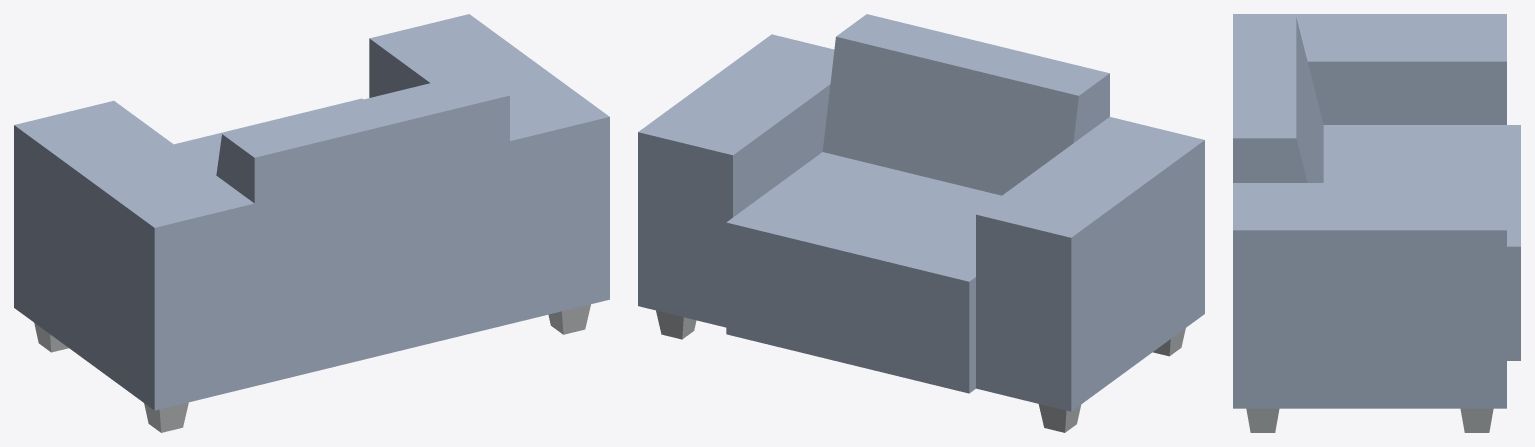
Rendered from furn_loungeDesignChair.glb.
3 views of the same model, side by side, from view 1: azimuth 30°, elevation 25°; view 2: azimuth 150°, elevation 25°; view 3: azimuth 270°, elevation 25° (orthographic). The views are drawn at different scales.
Bounding box in the file's own units: 1.46 × 0.8 × 0.82.
